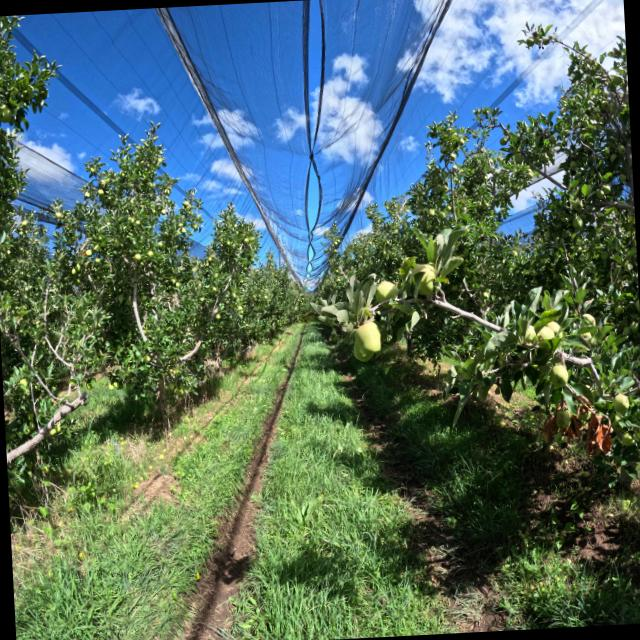-FireBlight-: (540, 394, 612, 460)
